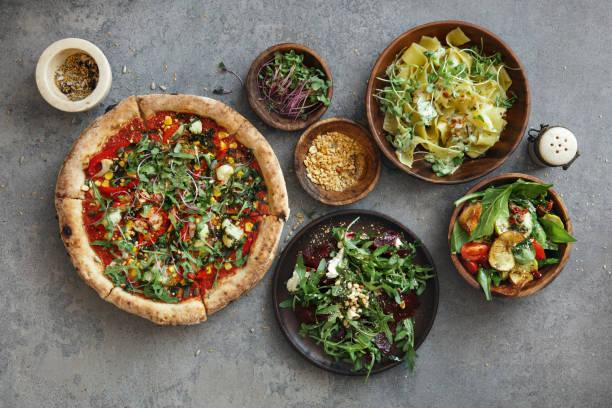Braised Crucian Carp: (60, 95, 290, 324), (270, 209, 435, 375), (366, 20, 527, 185), (446, 173, 573, 298)
